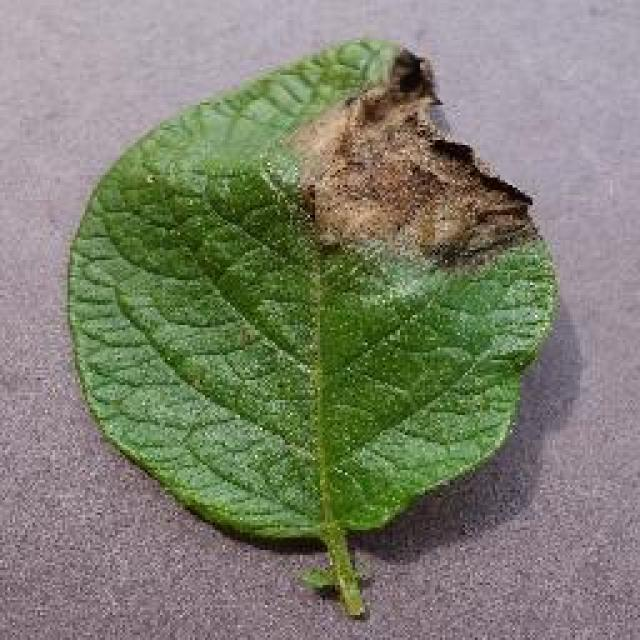Potato: (62, 35, 560, 617)
